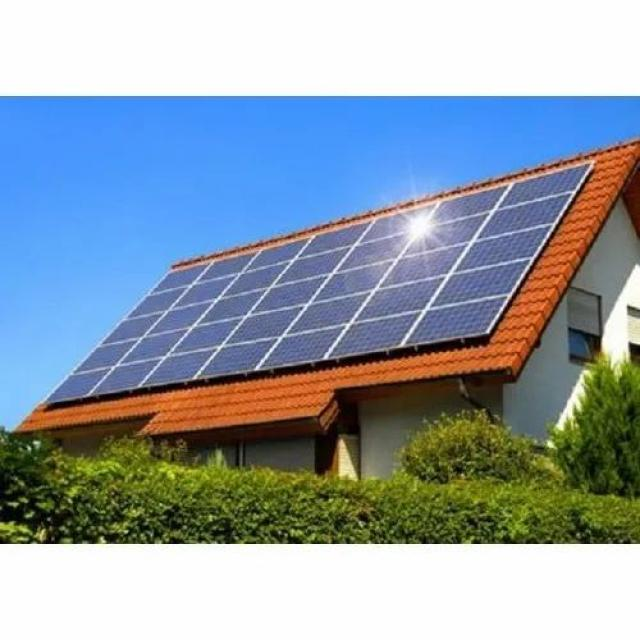clean-solar-panel: (50, 166, 590, 402)
